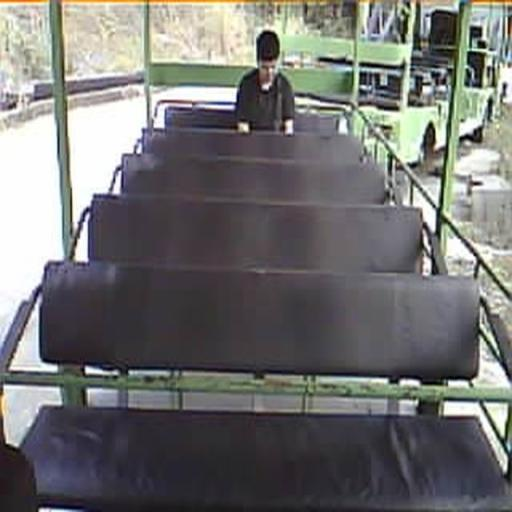persona: (233, 29, 296, 136)
